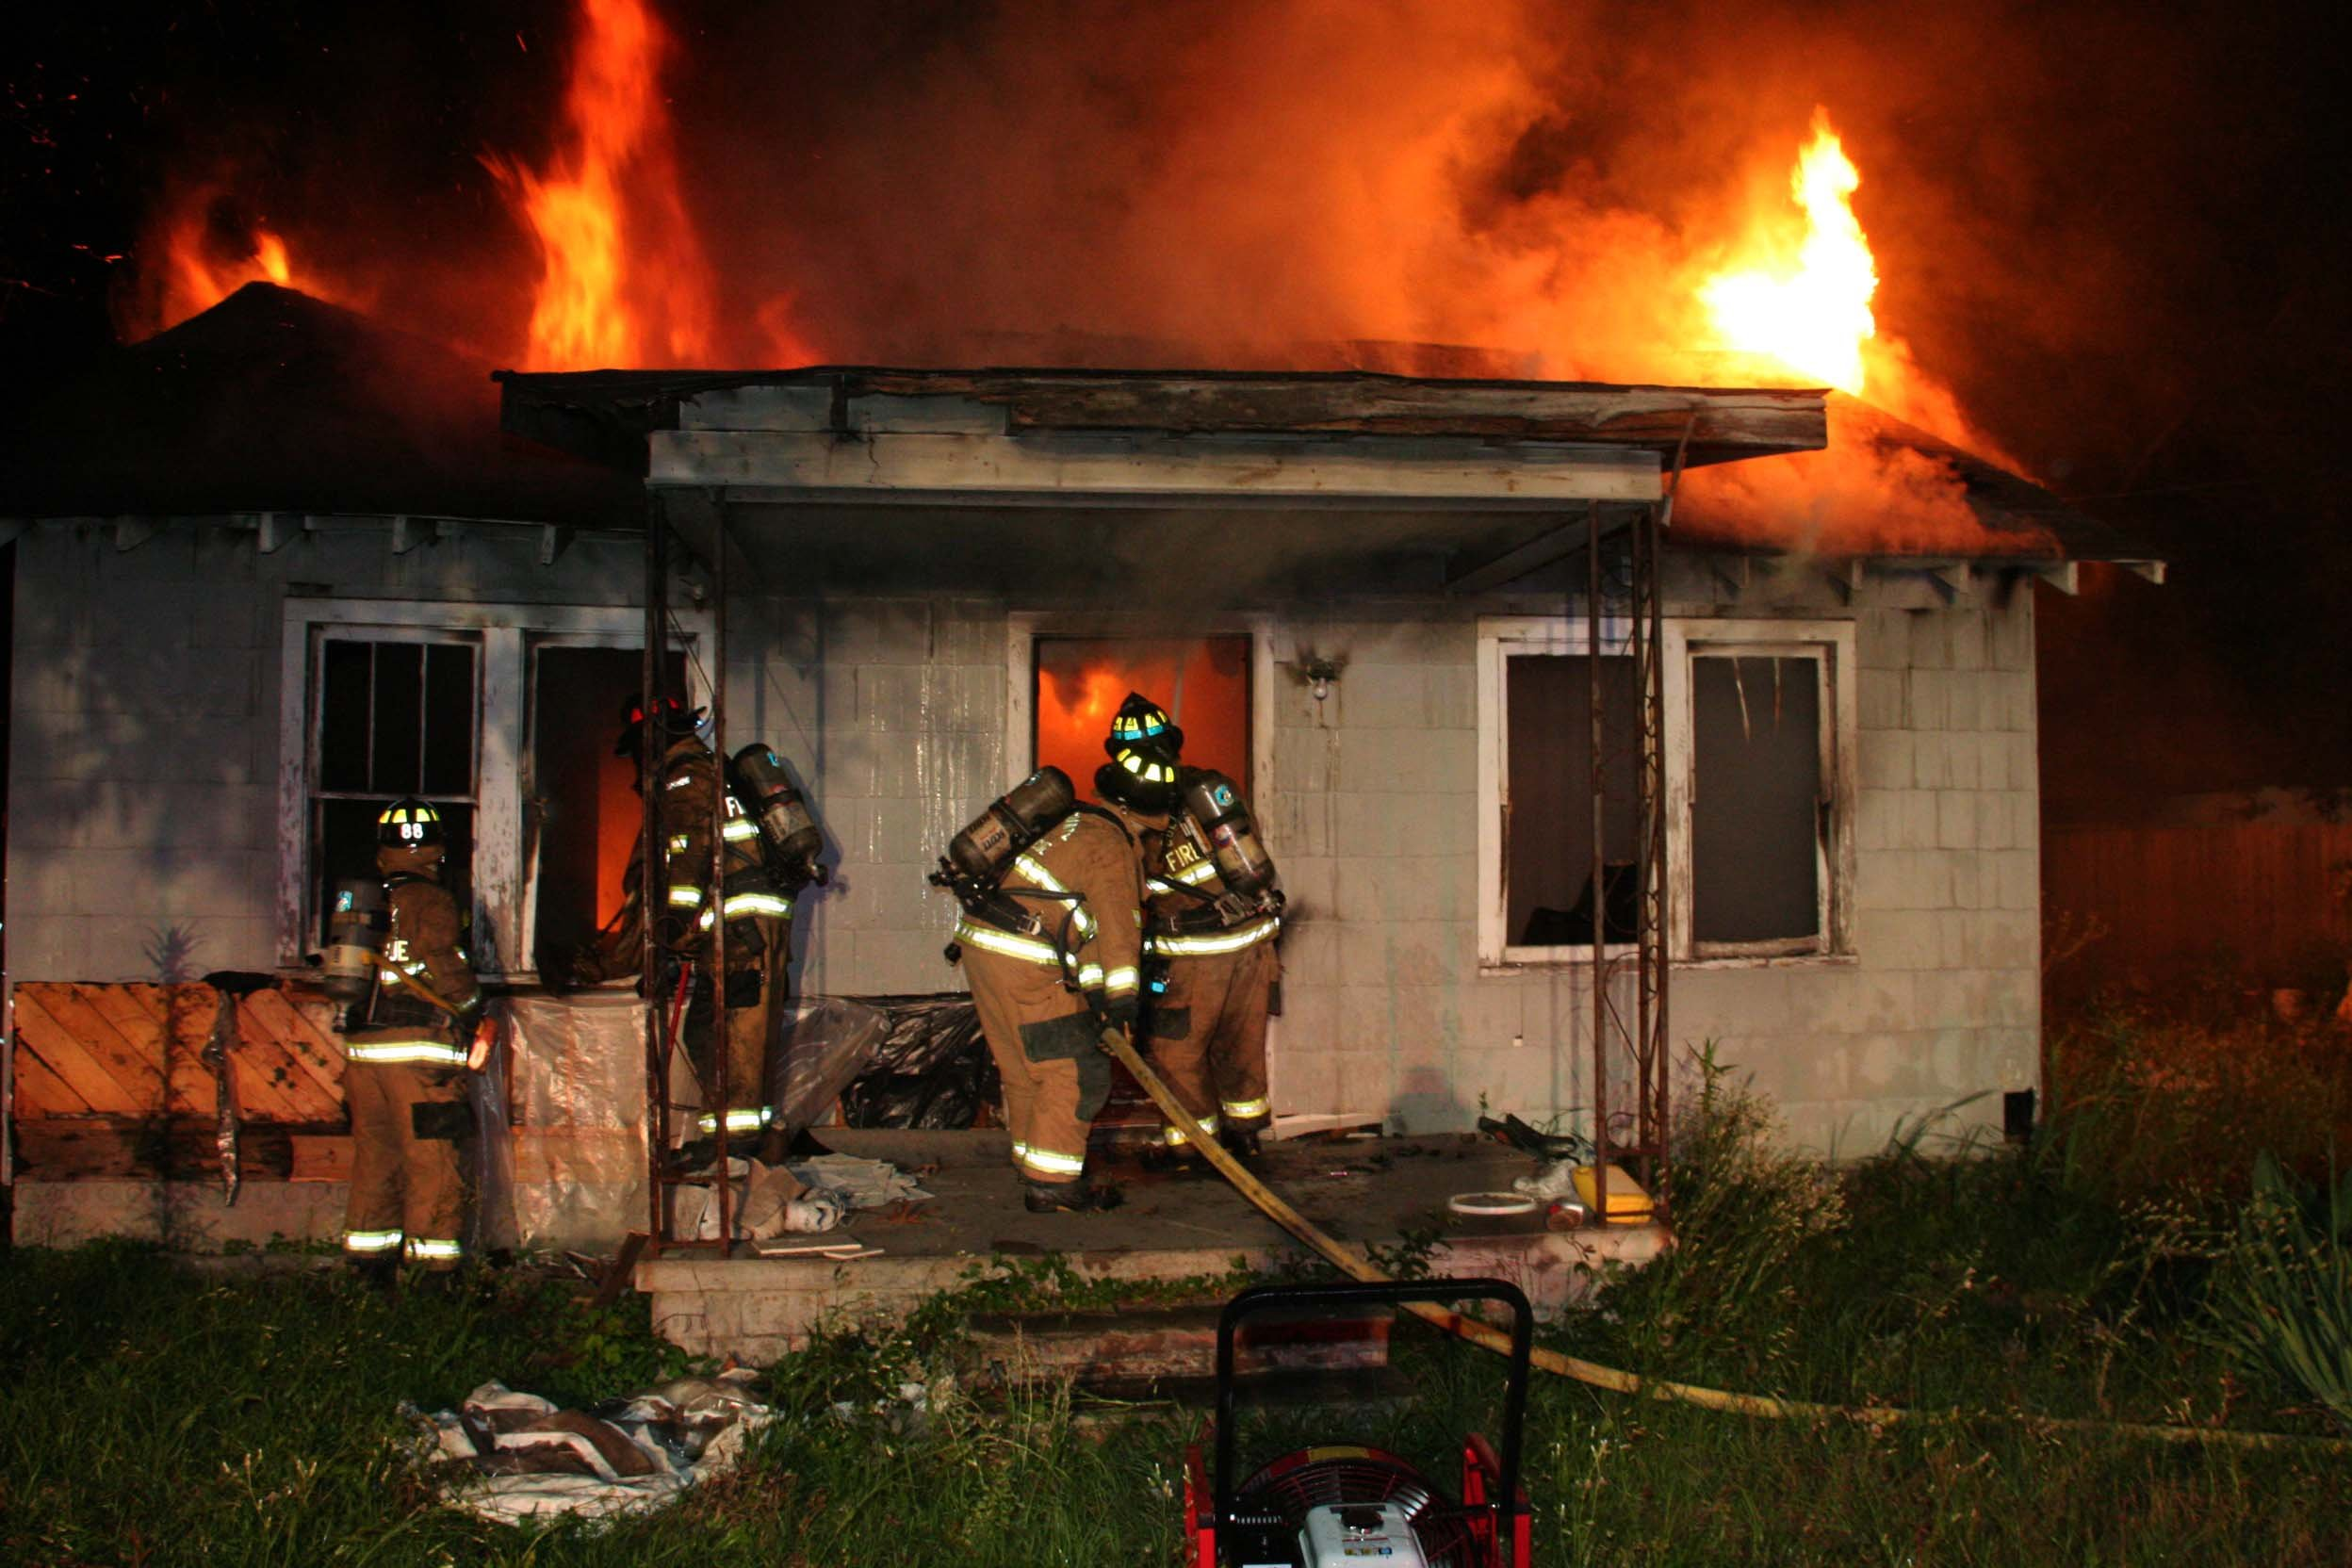fire: (178, 31, 2032, 465)
